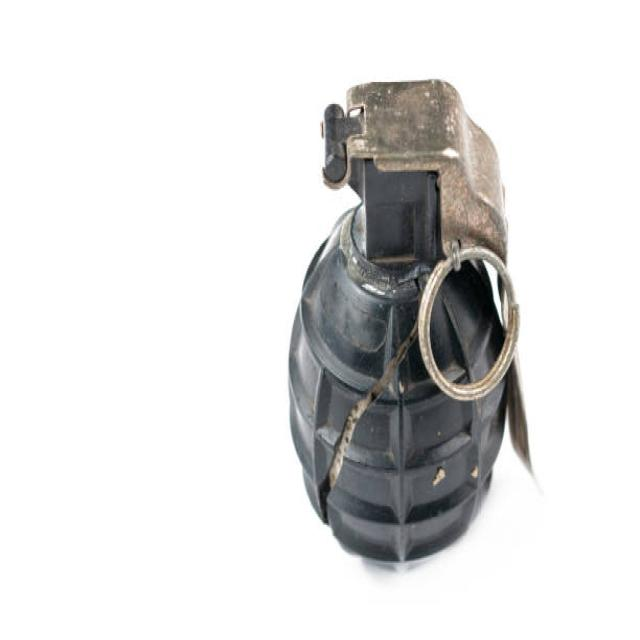grenade: (287, 65, 552, 580)
